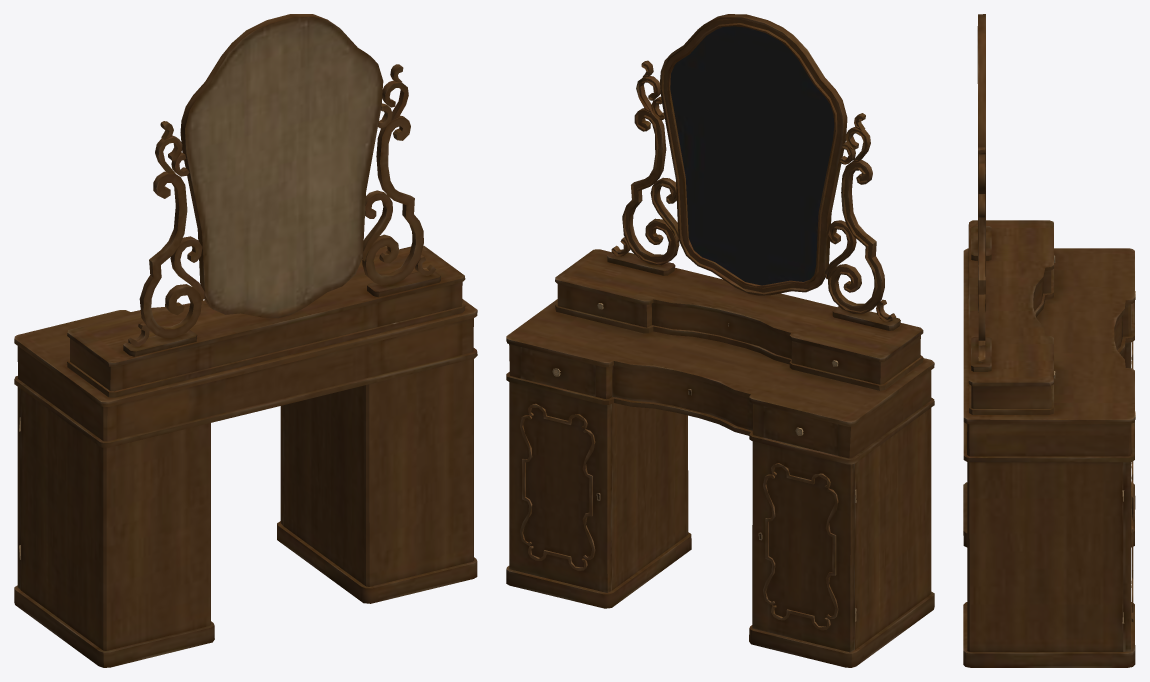
The model's file is dressing-table-vanity.lod1.glb.
3 views of the same model, side by side, from view 1: azimuth 30°, elevation 25°; view 2: azimuth 150°, elevation 25°; view 3: azimuth 270°, elevation 25° (orthographic). The views are drawn at different scales.
Parts seen in each view (by area): view 1: dressing-table-vanity; view 2: dressing-table-vanity; view 3: dressing-table-vanity.
Part boxes in pixels (x1,y1,x2,y2): dressing-table-vanity: (14, 14, 477, 667); dressing-table-vanity: (506, 14, 934, 667); dressing-table-vanity: (963, 14, 1135, 667).
Size of the model in its own units: 1.04 by 1.58 by 0.4419.
Materials: 1 (1 with a texture image).
